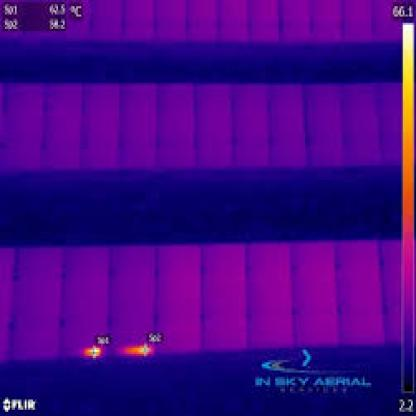Defects: (121, 340, 151, 360), (76, 348, 108, 360)
